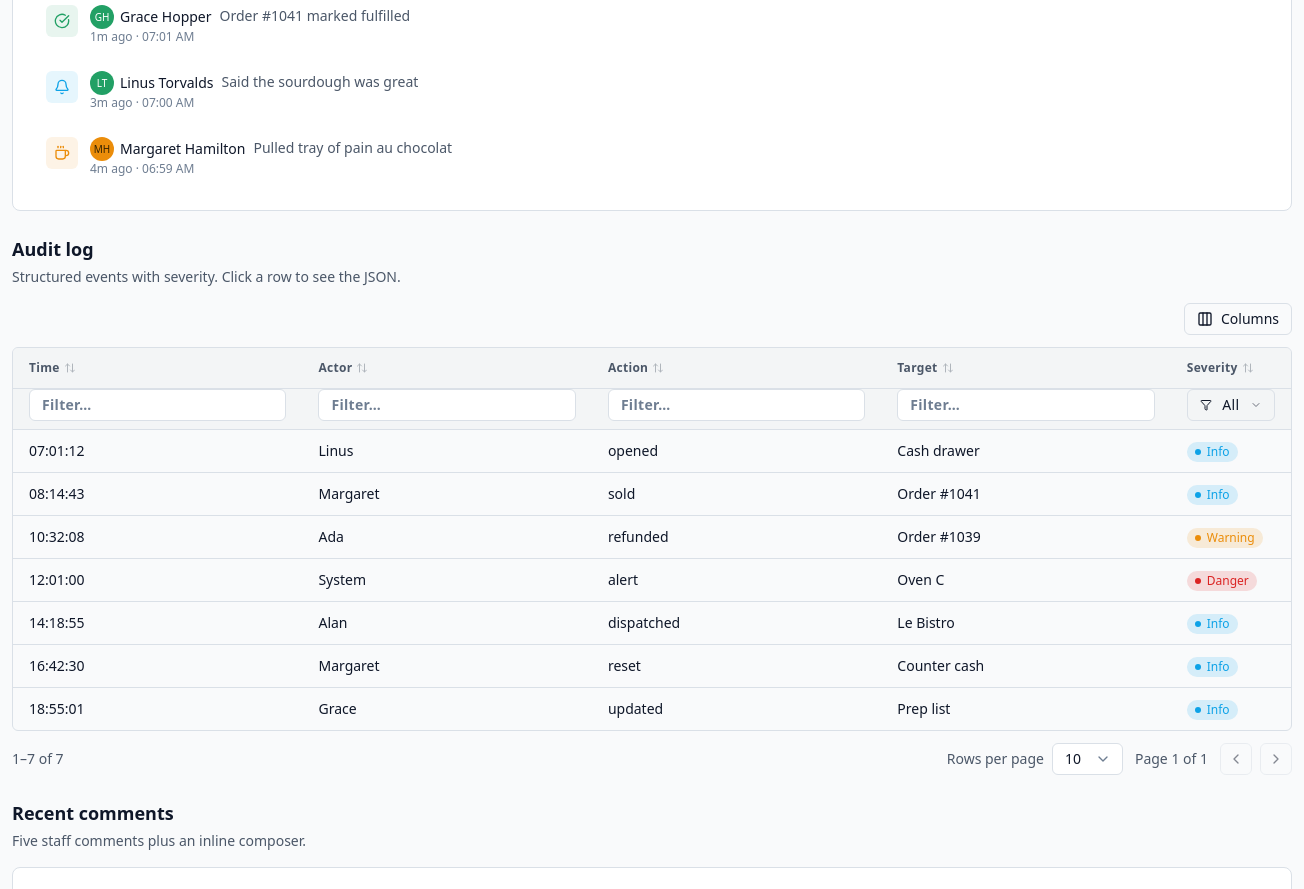
it: TimelineActivityPage › opens an audit detail panel on row click
The image size is (1304, 889).
(page scrolled)
# Header + filter row + data rows. Click the first data row.
Click the row "07:01:12 Linus opened Cash drawer Info".
click(652, 451)  # box [13, 429, 1291, 472]
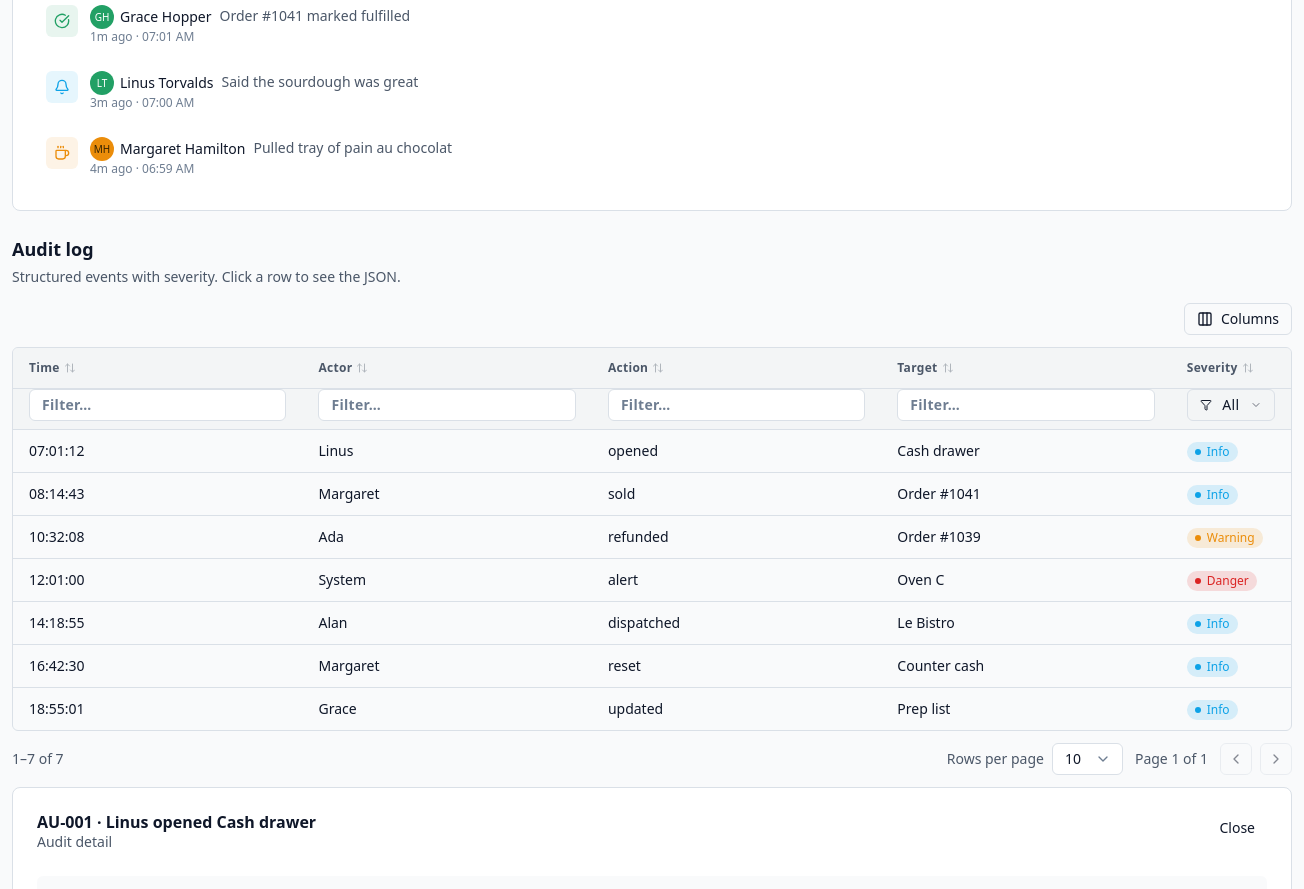
Expected: the text "Audit detail" is shown, [37, 832, 112, 851]
